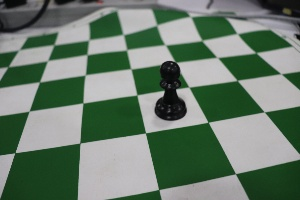black_pawn: (148, 48, 192, 122)
